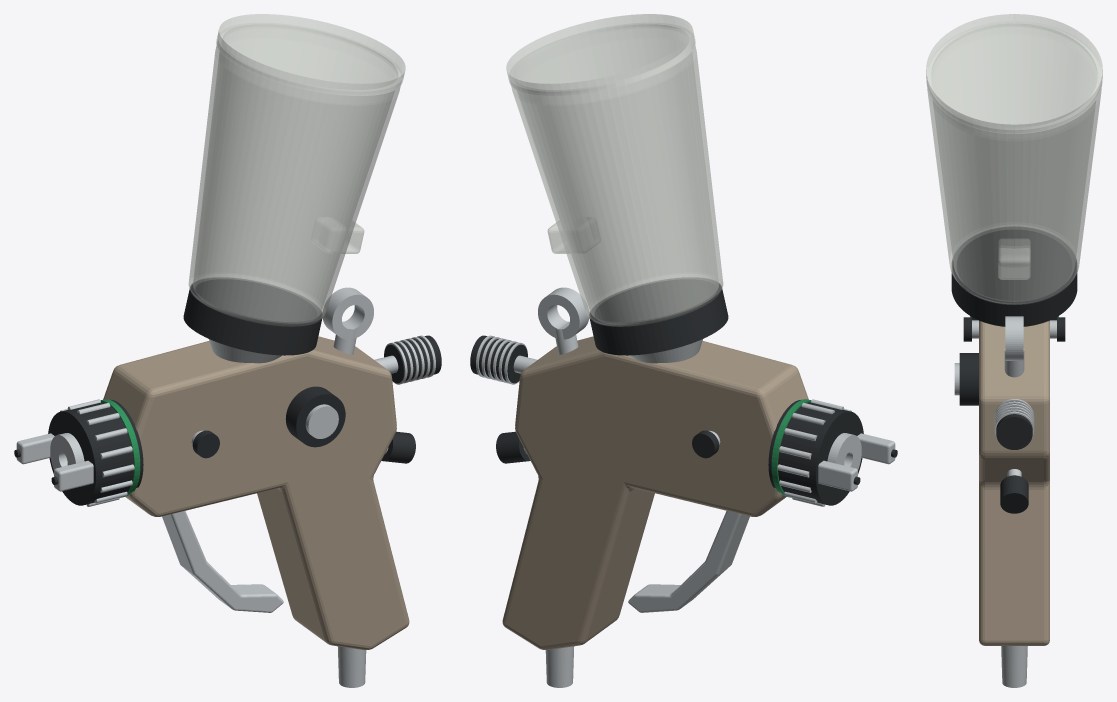
File: full.glb
The picture shows the model from 3 angles, left to right: view 1: azimuth 30°, elevation 25°; view 2: azimuth 150°, elevation 25°; view 3: azimuth 270°, elevation 25°; orthographic projection. The views are drawn at different scales.
Visible parts, largest first — view 1: Pistol body and swept grip, Translucent tapered gravity cup, Plain cup closed lid, Wide dark cup collar, Front hollow nozzle collar, Long curved trigger, Side circular dial, Small upper hanging eye, Rear axial ribbed knob, Lower open air fitting, Front metal aperture lip, Opposed nozzle horn -1 (+6 smaller); view 2: Pistol body and swept grip, Translucent tapered gravity cup, Plain cup closed lid, Wide dark cup collar, Front hollow nozzle collar, Long curved trigger, Small upper hanging eye, Rear axial ribbed knob, Lower open air fitting, Front metal aperture lip, Opposed nozzle horn 1, Opposed nozzle horn -1 (+4 smaller); view 3: Translucent tapered gravity cup, Pistol body and swept grip, Plain cup closed lid, Wide dark cup collar, Small cup side tab, Rear axial ribbed knob, Lower open air fitting, Side circular dial, Lower rear knob, Small upper hanging eye, Generic hanging eye foot.
Boxes of the visible parts, x1=… form: Pistol body and swept grip: x1=103, y1=336, x2=409, y2=649; Translucent tapered gravity cup: x1=188, y1=23, x2=402, y2=326; Plain cup closed lid: x1=216, y1=14, x2=405, y2=95; Wide dark cup collar: x1=183, y1=278, x2=322, y2=355; Front hollow nozzle collar: x1=48, y1=399, x2=143, y2=505; Long curved trigger: x1=162, y1=511, x2=283, y2=612; Side circular dial: x1=285, y1=386, x2=345, y2=447; Small upper hanging eye: x1=322, y1=287, x2=373, y2=339; Rear axial ribbed knob: x1=384, y1=335, x2=441, y2=383; Lower open air fitting: x1=337, y1=646, x2=366, y2=687; Front metal aperture lip: x1=50, y1=433, x2=84, y2=469; Opposed nozzle horn -1: x1=54, y1=460, x2=93, y2=491; Pistol body and swept grip: x1=502, y1=336, x2=808, y2=649; Translucent tapered gravity cup: x1=509, y1=23, x2=723, y2=326; Plain cup closed lid: x1=506, y1=14, x2=695, y2=95; Wide dark cup collar: x1=589, y1=278, x2=728, y2=355; Front hollow nozzle collar: x1=768, y1=399, x2=863, y2=505; Long curved trigger: x1=628, y1=511, x2=749, y2=612; Small upper hanging eye: x1=538, y1=287, x2=589, y2=339; Rear axial ribbed knob: x1=470, y1=335, x2=527, y2=383; Lower open air fitting: x1=545, y1=646, x2=574, y2=687; Front metal aperture lip: x1=827, y1=433, x2=861, y2=469; Opposed nozzle horn 1: x1=818, y1=460, x2=857, y2=491; Opposed nozzle horn -1: x1=857, y1=433, x2=895, y2=464; Translucent tapered gravity cup: x1=927, y1=21, x2=1101, y2=304; Pistol body and swept grip: x1=979, y1=320, x2=1049, y2=645; Plain cup closed lid: x1=926, y1=14, x2=1102, y2=133; Wide dark cup collar: x1=951, y1=227, x2=1077, y2=326; Small cup side tab: x1=998, y1=239, x2=1030, y2=279; Rear axial ribbed knob: x1=996, y1=401, x2=1032, y2=449; Lower open air fitting: x1=1001, y1=646, x2=1027, y2=687; Side circular dial: x1=959, y1=353, x2=978, y2=405; Lower rear knob: x1=1000, y1=475, x2=1028, y2=513; Small upper hanging eye: x1=1005, y1=316, x2=1023, y2=360; Generic hanging eye foot: x1=1004, y1=348, x2=1024, y2=377.
Size of the model in its own units: 0.209 by 0.3339 by 0.087.
